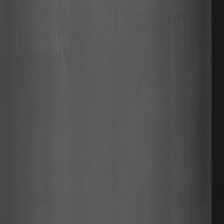silk_spot: (44, 23, 68, 66)
